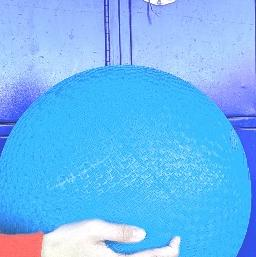algae: (0, 57, 249, 257)
